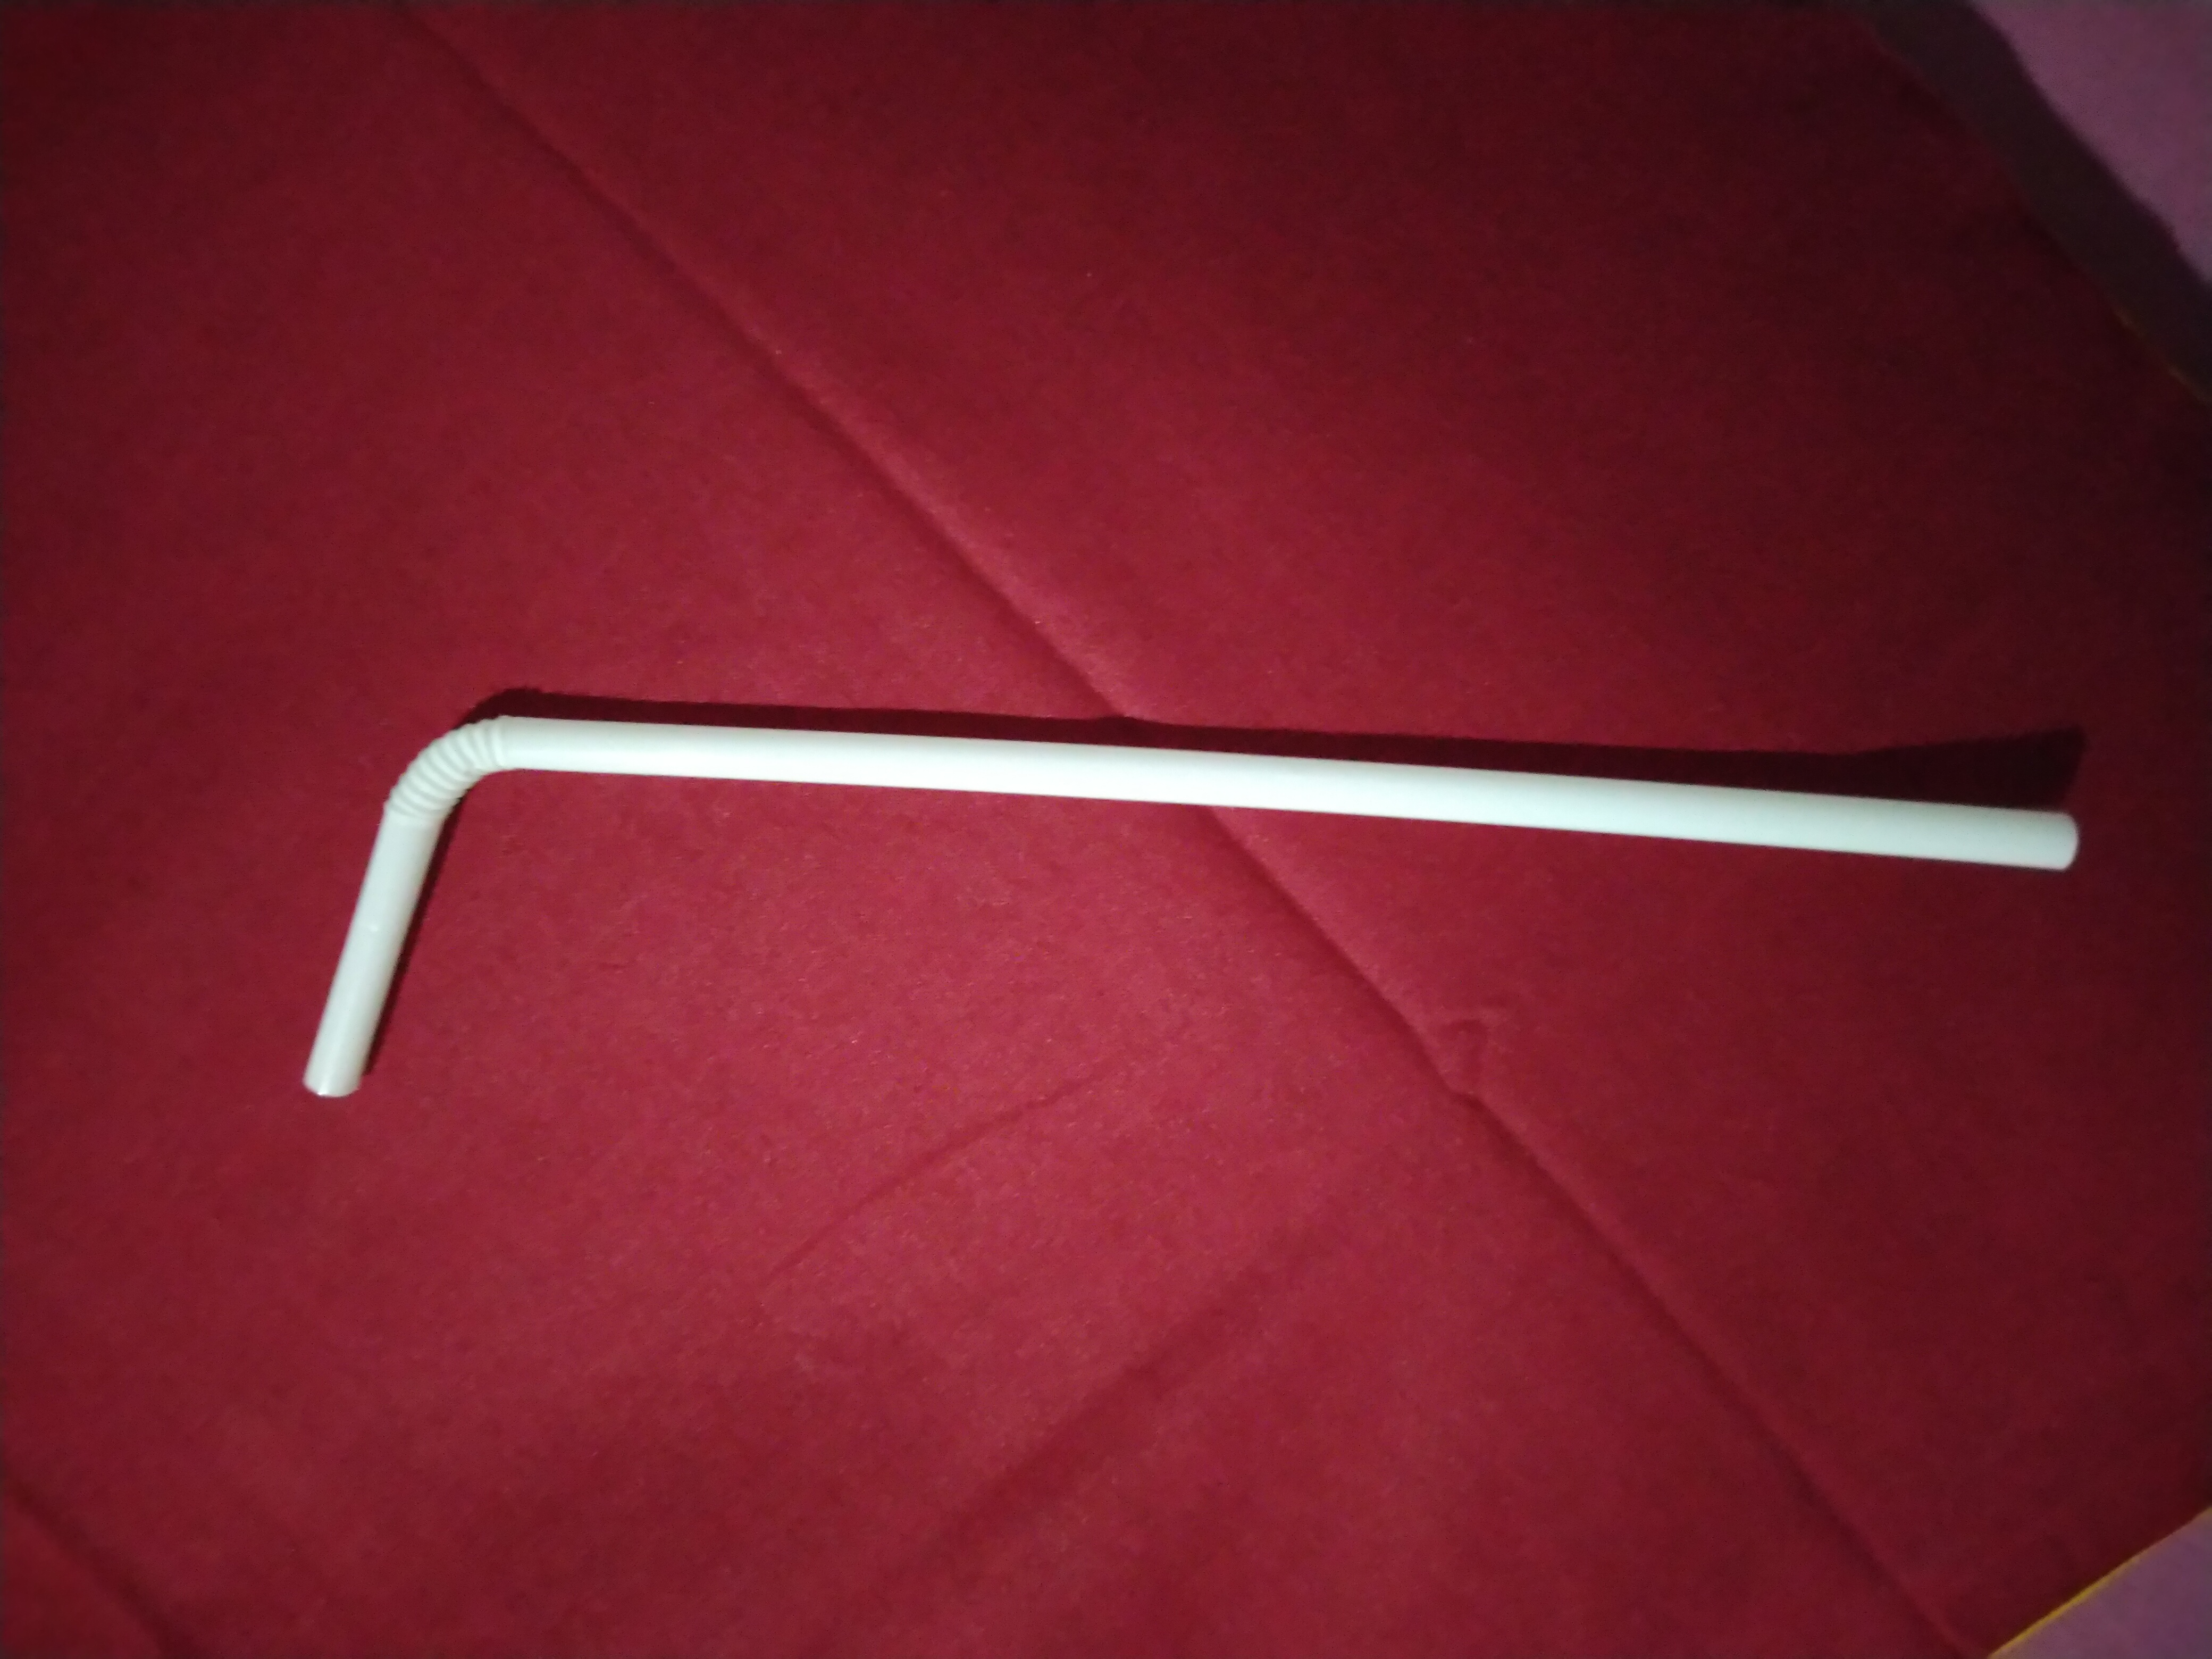PP: (296, 720, 2078, 1101)
